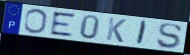0: (79, 15, 101, 40)
E: (50, 11, 77, 38)
I: (135, 20, 149, 47)
K: (105, 16, 128, 44)
O: (23, 8, 48, 35)
S: (156, 23, 184, 50)
